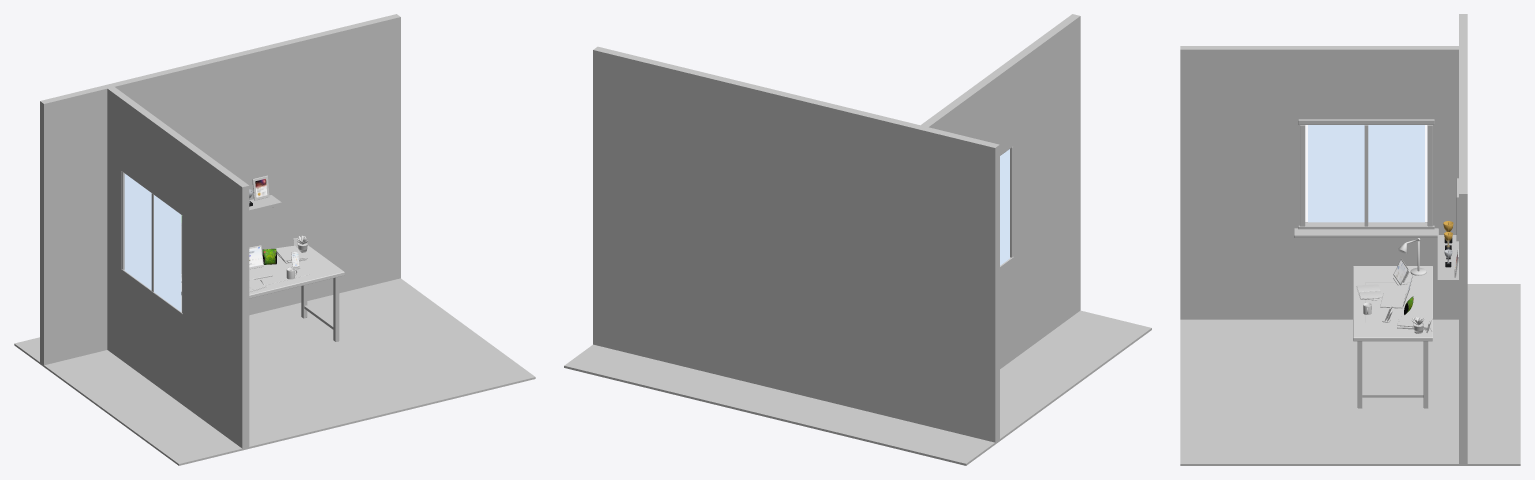
The model's file is desk.gltf.
The picture shows the model from 3 angles, left to right: view 1: azimuth 30°, elevation 25°; view 2: azimuth 150°, elevation 25°; view 3: azimuth 270°, elevation 25°; orthographic projection. The views are drawn at different scales.
Parts seen in each view (by area): view 1: baked_room, window_glass, baked_desk; view 2: baked_room, window_glass; view 3: baked_room, window_glass, baked_desk.
Part boxes in pixels (x1=…): baked_room: x1=14, y1=14, x2=535, y2=465; window_glass: x1=124, y1=173, x2=181, y2=311; baked_desk: x1=181, y1=175, x2=344, y2=298; baked_room: x1=564, y1=14, x2=1151, y2=465; window_glass: x1=1000, y1=149, x2=1009, y2=265; baked_room: x1=1180, y1=14, x2=1520, y2=465; window_glass: x1=1308, y1=125, x2=1424, y2=222; baked_desk: x1=1353, y1=238, x2=1458, y2=341.
Bounding box in the file's own units: 4 × 2.82 × 3.2.
14 materials, 6 textured.
